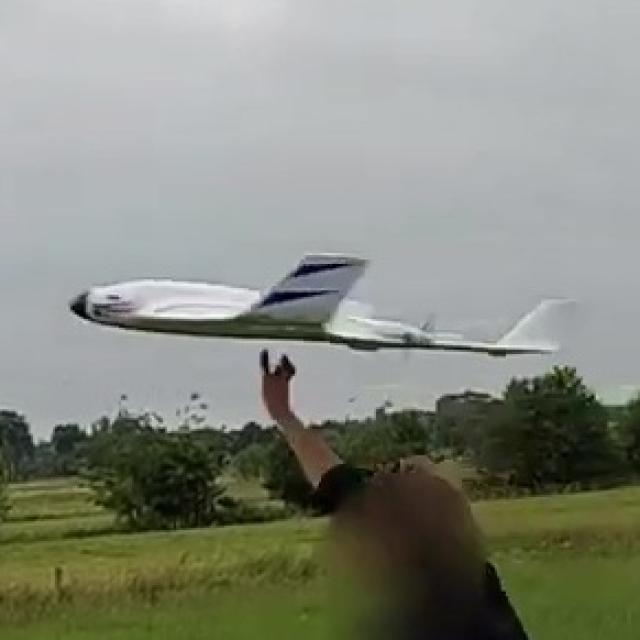iha: (67, 289, 573, 352)
